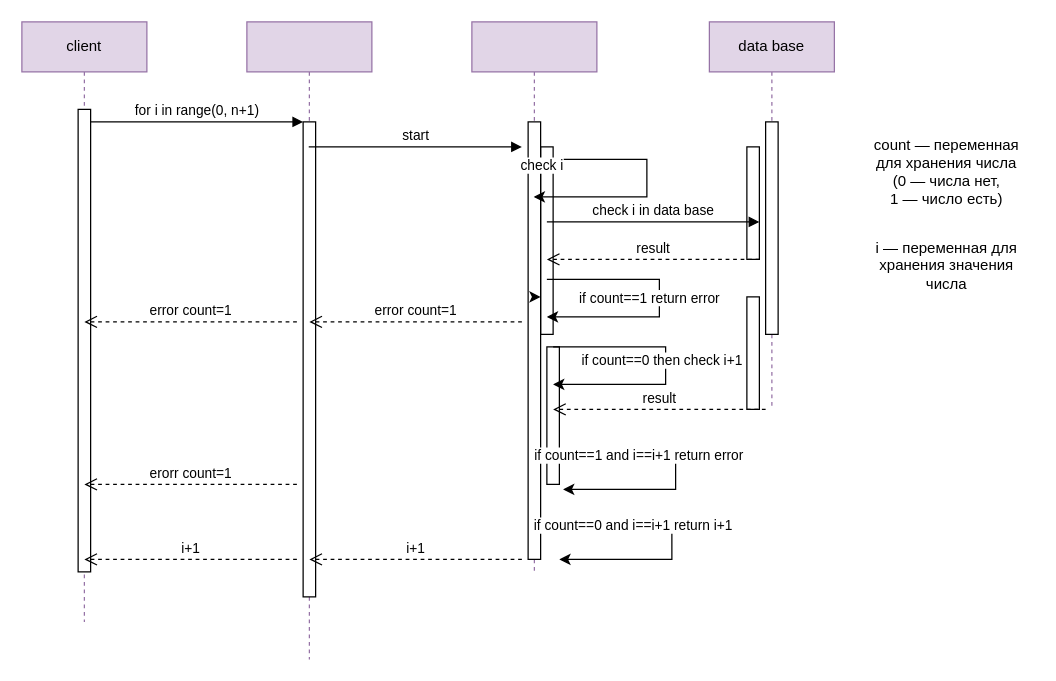
Image size: 1056x681. Some labels were removed from this diagram. Here are the shapes that lost their labels. From the top down, the box of each, then its label:
(471, 21, 597, 572): application server
(246, 21, 372, 659): web-server
